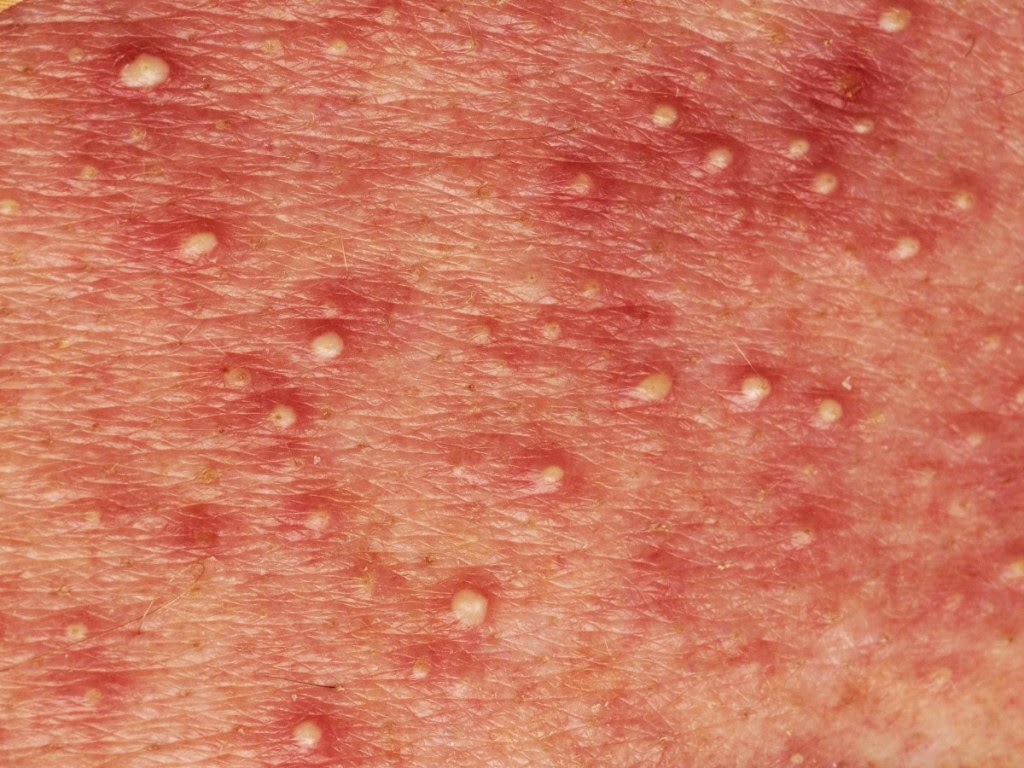jerawat: (4, 6, 1024, 768)
